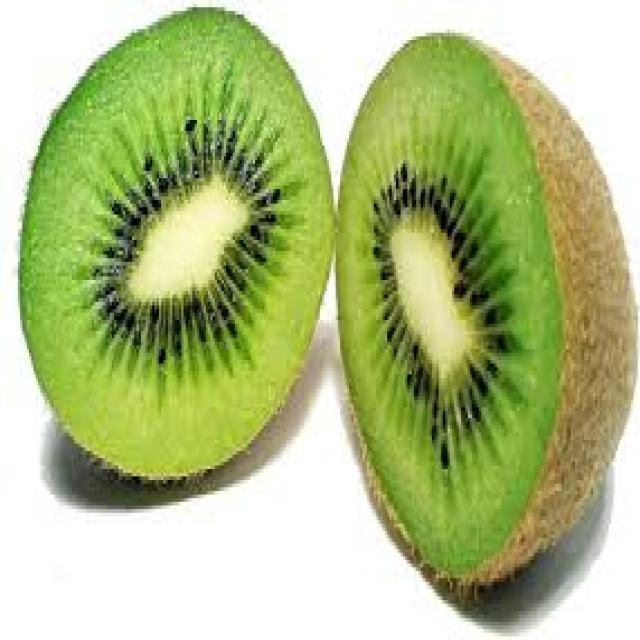organic waste: (334, 25, 636, 593), (13, 4, 332, 480)
